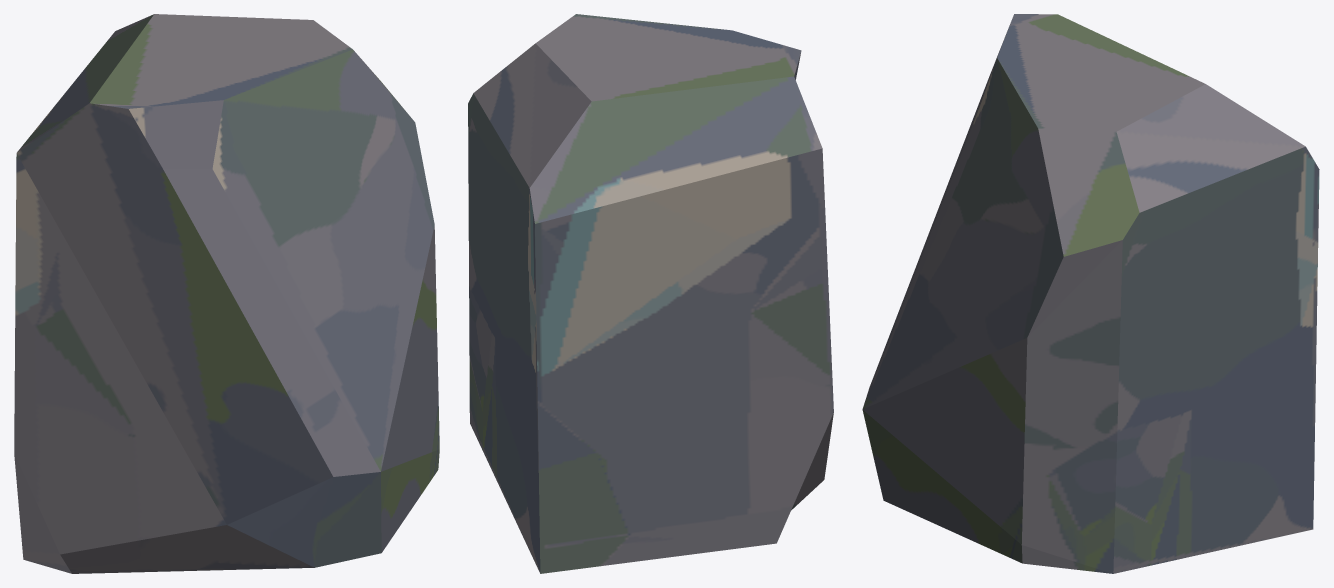
Rendered from T_ROCK03.fbx.
3 views of the same model, side by side, from view 1: azimuth 30°, elevation 25°; view 2: azimuth 150°, elevation 25°; view 3: azimuth 270°, elevation 25° (orthographic). The views are drawn at different scales.
Visible parts, largest first — view 1: T_ROCK03.001; view 2: T_ROCK03.001; view 3: T_ROCK03.001.
Part boxes in pixels (x1,y1,x2,y2): T_ROCK03.001: (14,14,439,573); T_ROCK03.001: (468,14,833,573); T_ROCK03.001: (862,14,1319,573).
Size of the model in its own units: 209 by 252 by 229.
Materials: 1 (1 with a texture image).
